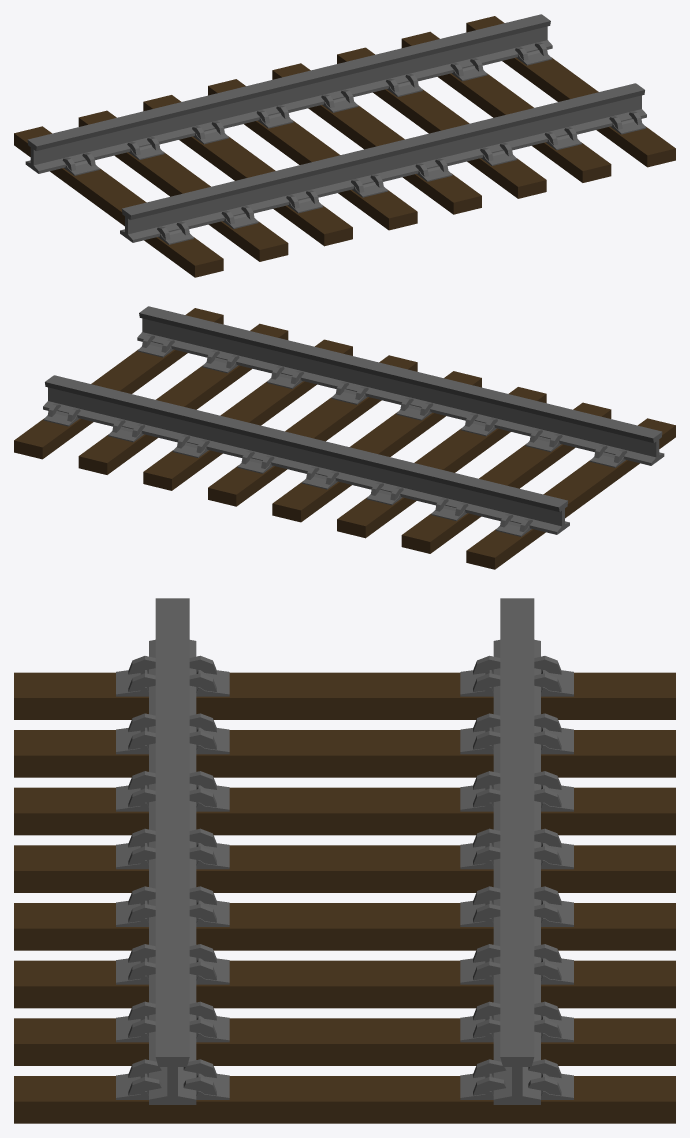
The model's file is Railway.fbx.
The picture shows the model from 3 angles, top to bottom: view 1: azimuth 30°, elevation 25°; view 2: azimuth 150°, elevation 25°; view 3: azimuth 270°, elevation 25°; orthographic projection. The views are drawn at different scales.
Parts seen in each view (by area): view 1: Railway; view 2: Railway; view 3: Railway.
Part boxes in pixels (x1=…): Railway: x1=14, y1=14, x2=675, y2=277; Railway: x1=14, y1=306, x2=675, y2=569; Railway: x1=14, y1=598, x2=675, y2=1123.
Size of the model in its own units: 796 by 59.45 by 485.
